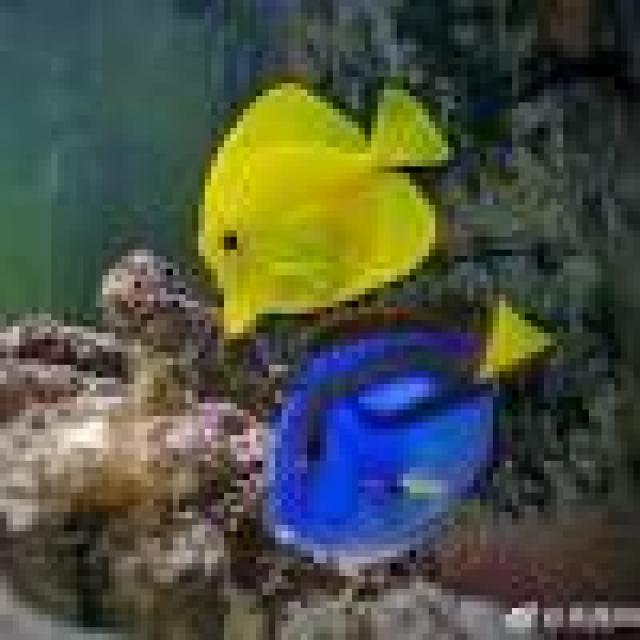YellowTang: (161, 49, 464, 351)
